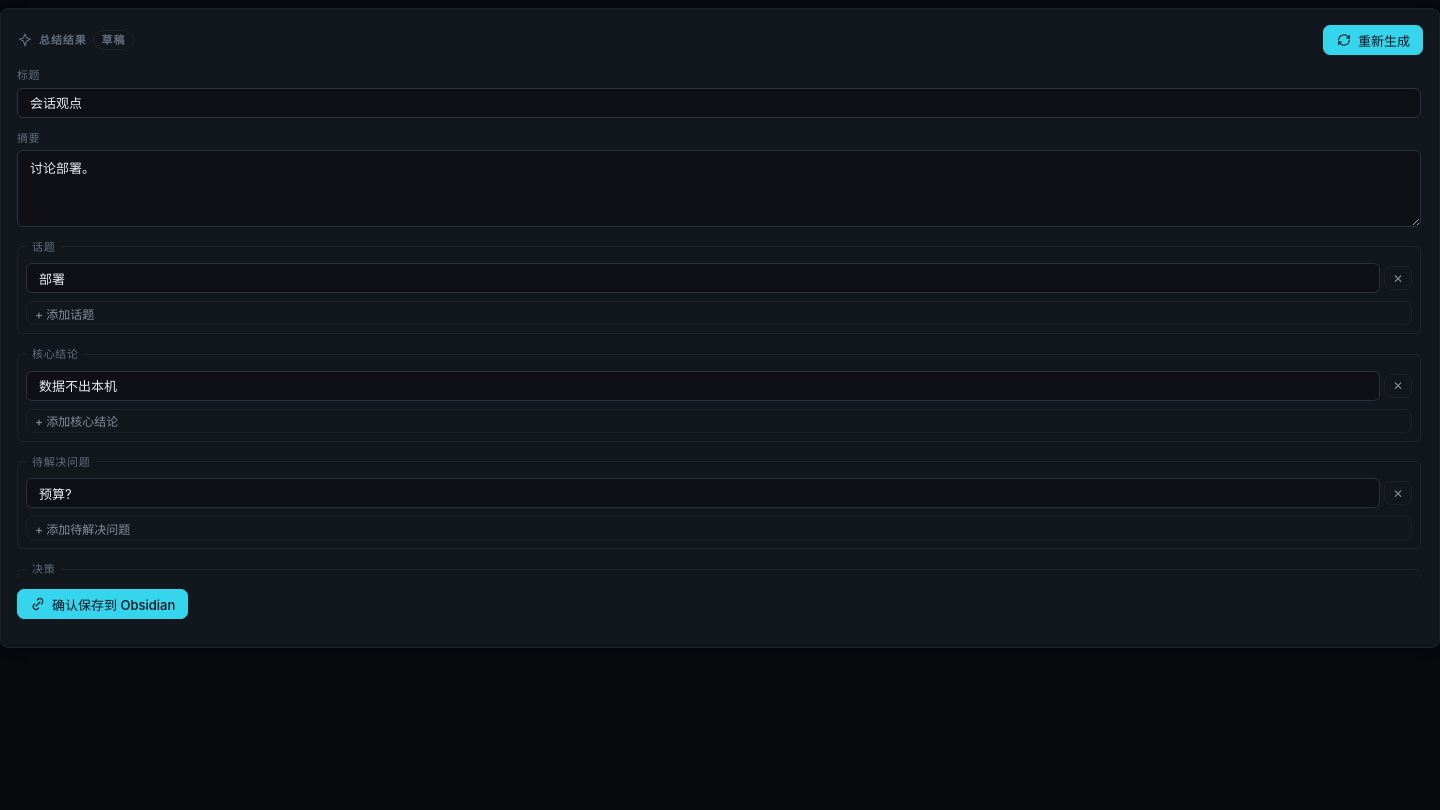
Test: ResultEditor › 确认保存到 Obsidian publishes and shows the note path
This screenshot has width=1440, height=810.
Click the button "确认保存到 Obsidian" at coordinates (103, 604), box x1=17 y1=589 x2=188 y2=619
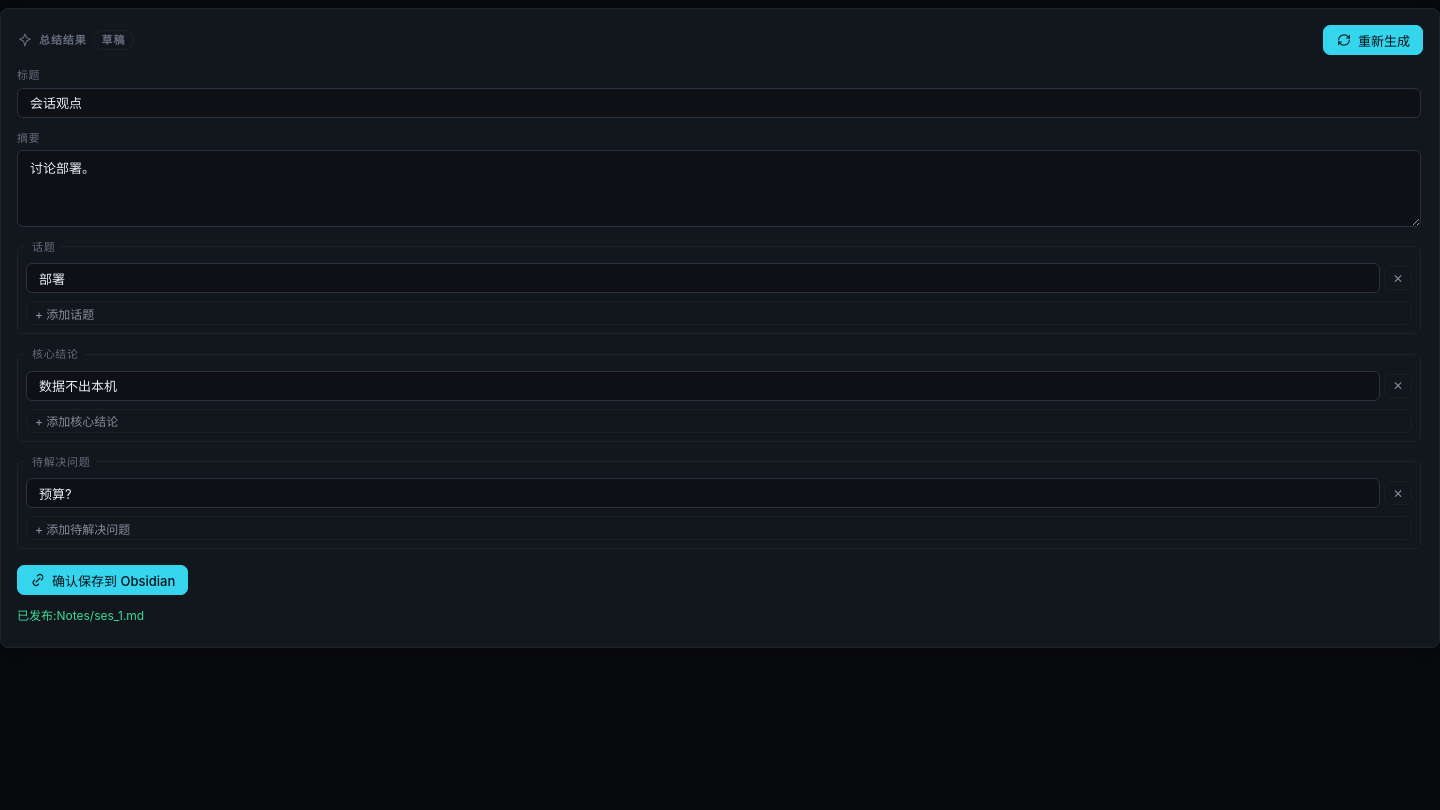
Check: the text "已发布:Notes/ses_1.md" is shown, box x1=17 y1=608 x2=144 y2=623
